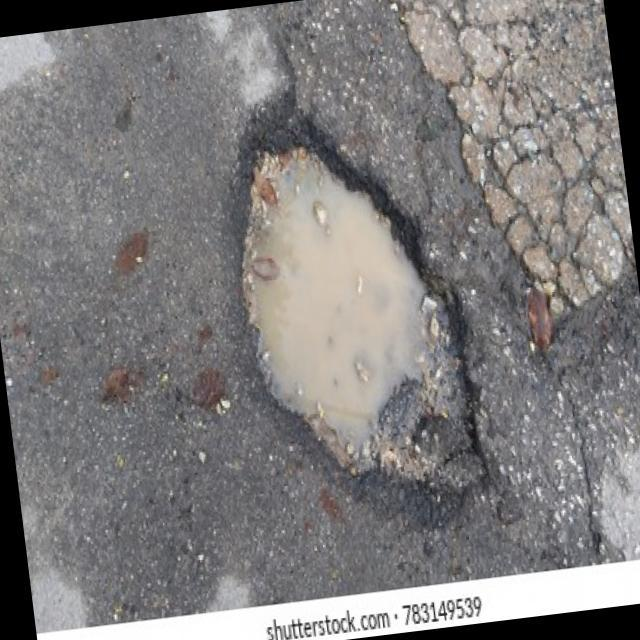Pothole: (209, 92, 496, 528)
